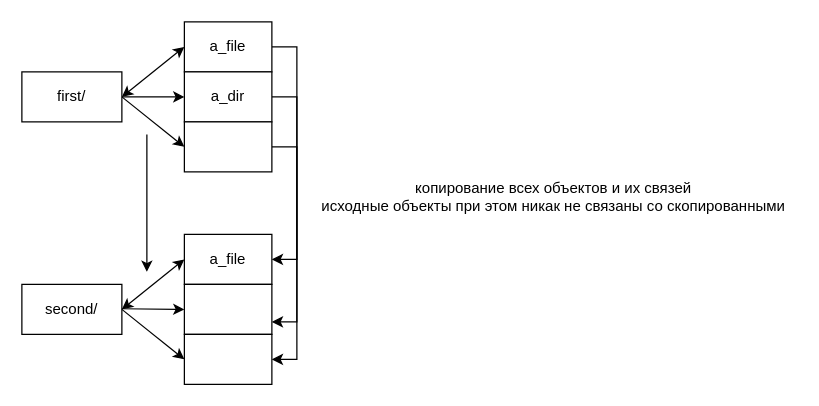
The diagram is 819 pixels wide and 406 high, and some of its shapes have lost their labels. Each missing label, with the box of its shape:
a_dir/: (183, 283, 272, 334)
b_dir: (183, 121, 272, 172)
b_dir/: (183, 333, 272, 384)
